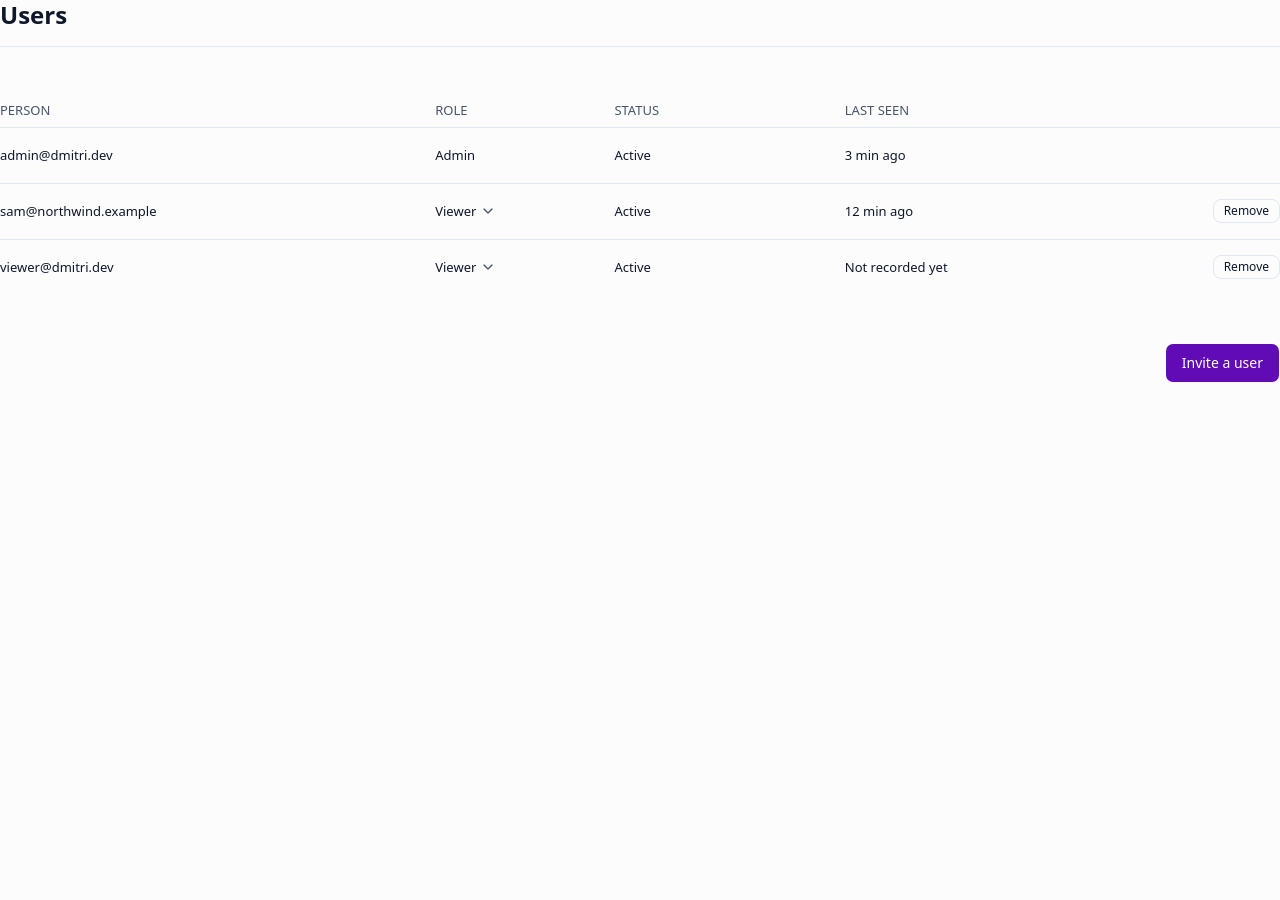
Test case: Users member removal › removes the member, raises the toast and refetches both lists
Click the button "Remove" in the row of "sam@northwind.example": (1246,211) [1213,199,1279,223]
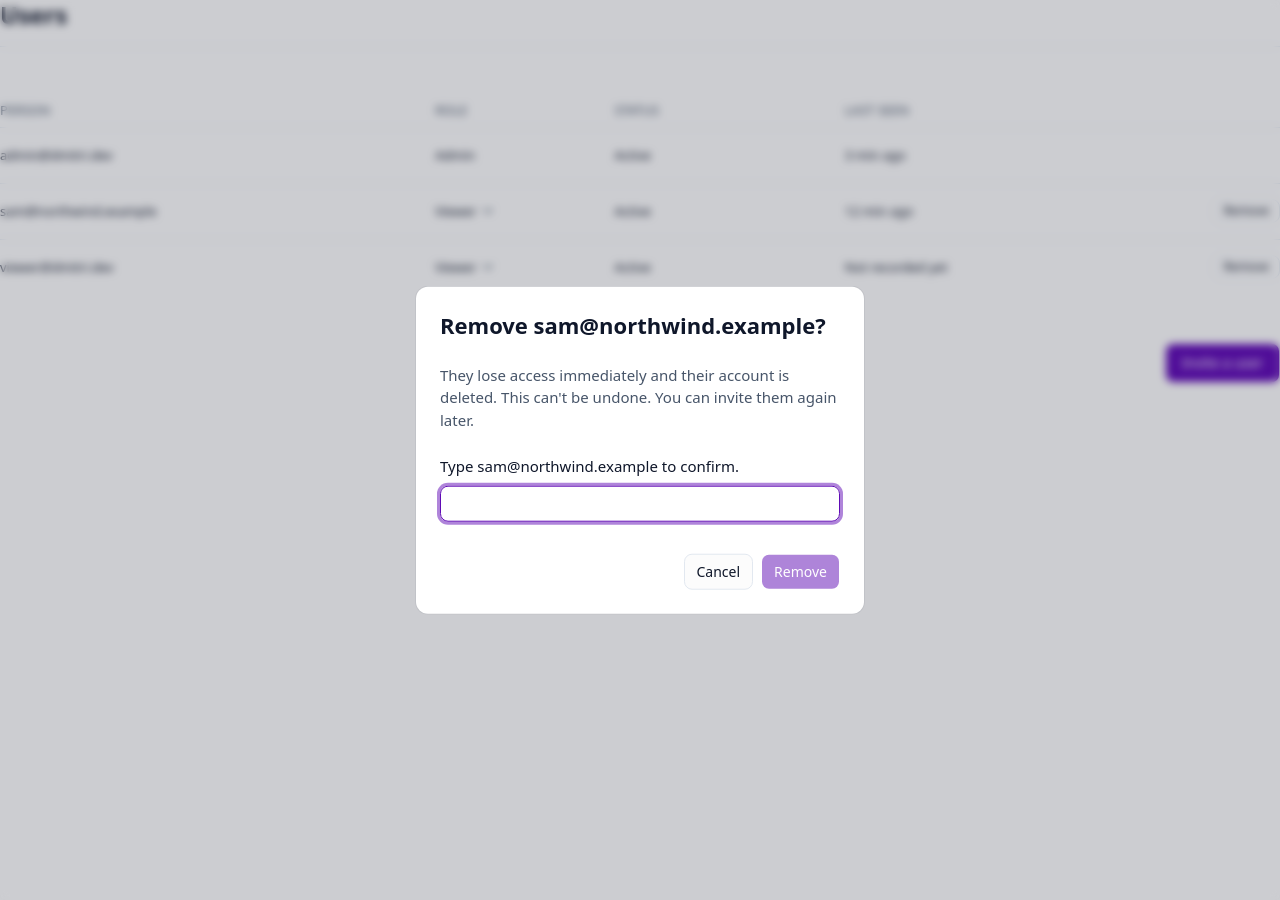
In the field with test id "confirm-by-typing-input": (640,503) [440,485,840,521], type "sam@northwind.example"
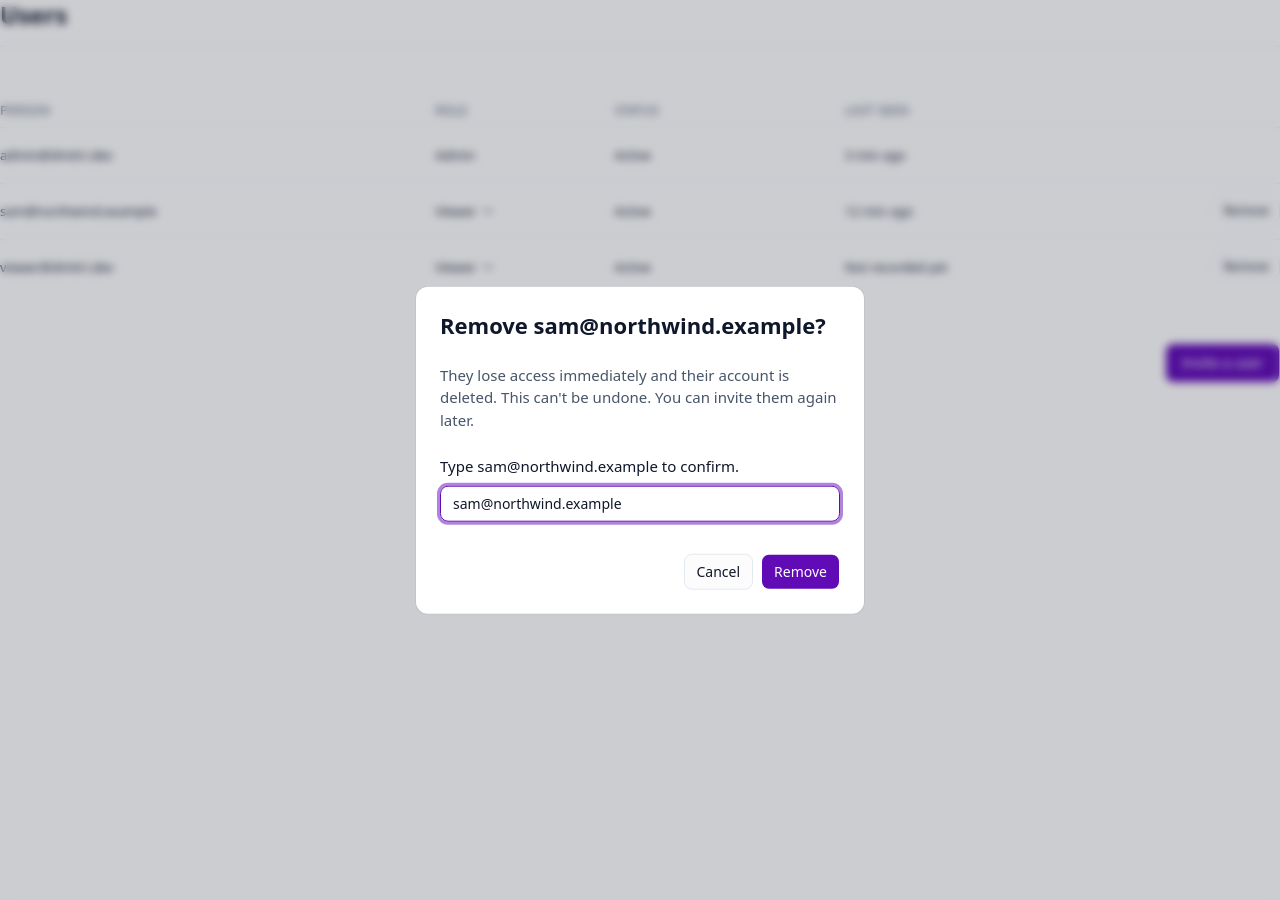
Click the button with test id "confirm-by-typing-submit": (801,571) [761,553,840,589]
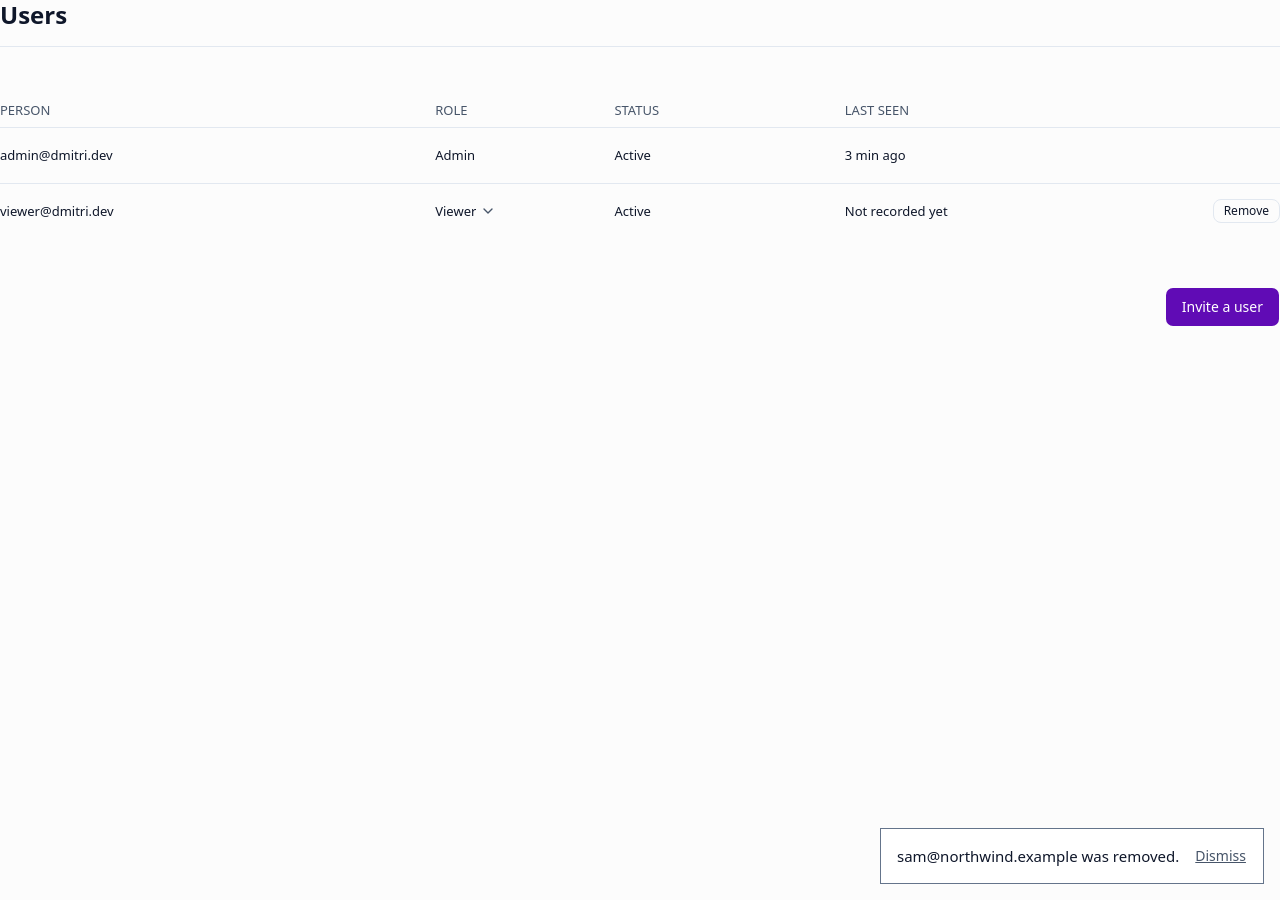
Check: the row with test id "user-row-self" is shown, box [0,127,1279,183]
Check: the dialog with test id "confirm-by-typing-dialog" is gone
